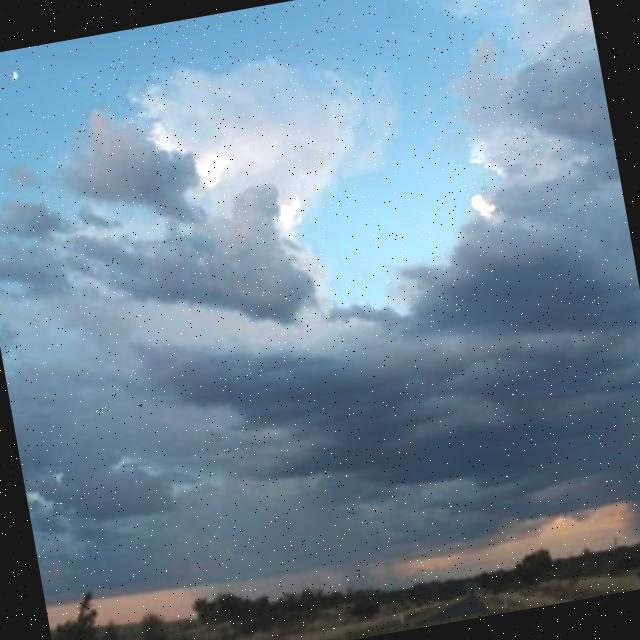Cb: (1, 1, 640, 539)
